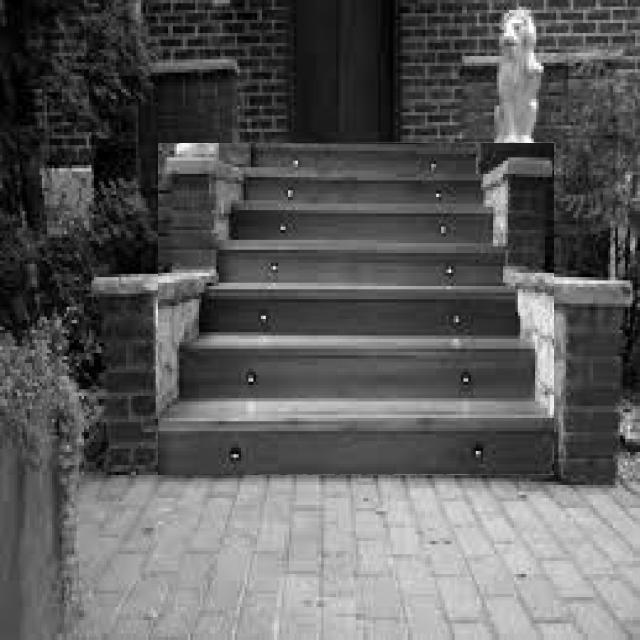stair: (159, 144, 554, 475)
